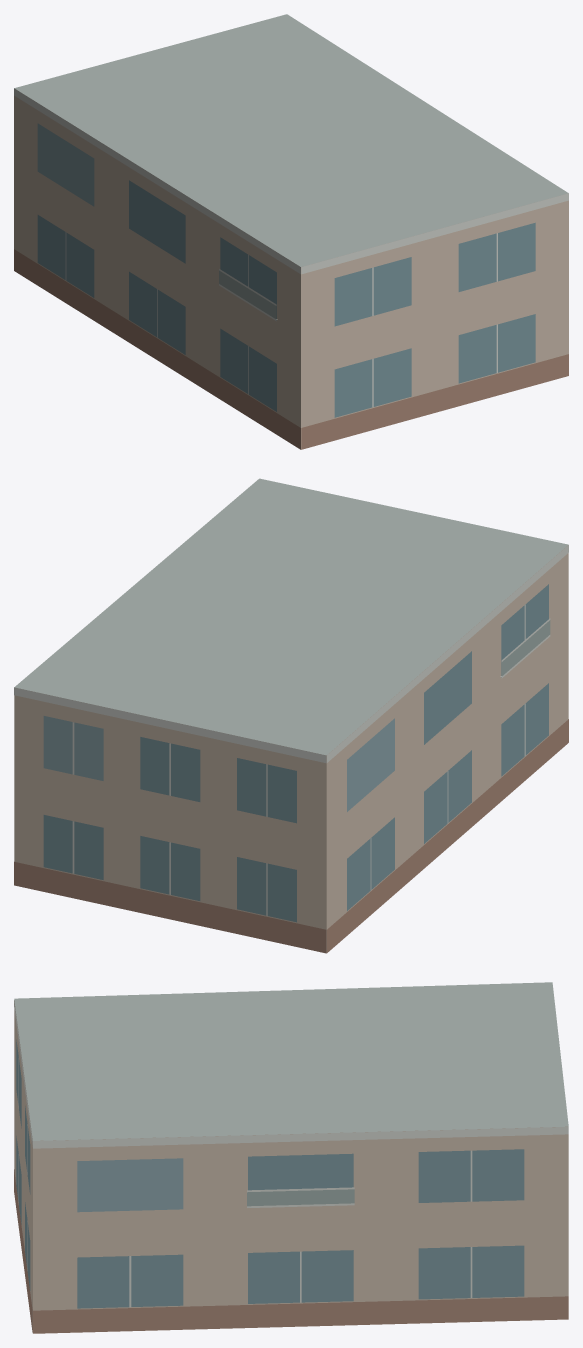
The model's file is survey-upis-32930656.glb.
The picture shows the model from 3 angles, top to bottom: view 1: azimuth 30°, elevation 25°; view 2: azimuth 150°, elevation 25°; view 3: azimuth 270°, elevation 25°; orthographic projection. The views are drawn at different scales.
Visible parts, largest first — view 1: survey-upis-32930656.tmp; view 2: survey-upis-32930656.tmp; view 3: survey-upis-32930656.tmp.
Part boxes in pixels (bbox=[...]): survey-upis-32930656.tmp: bbox=[14, 14, 568, 449]; survey-upis-32930656.tmp: bbox=[14, 478, 568, 953]; survey-upis-32930656.tmp: bbox=[14, 982, 568, 1333].
Size of the model in its own units: 10.79 by 6.1 by 15.92.
